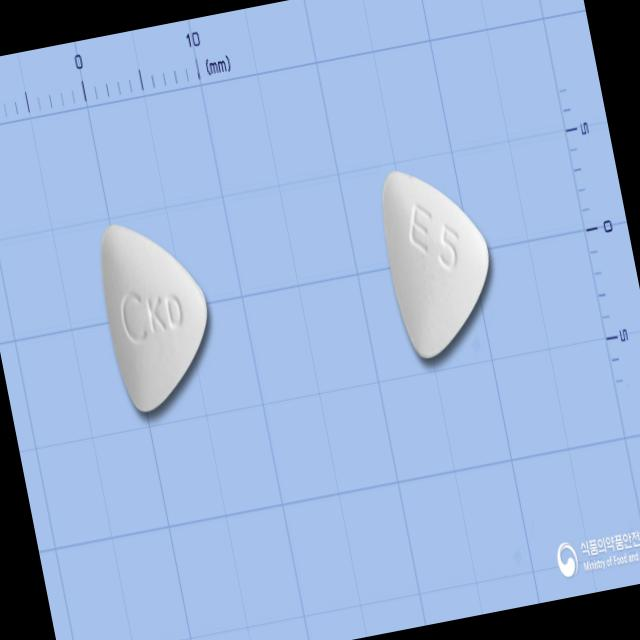Entecabell - 1mg: (88, 208, 226, 418), (372, 156, 507, 362)
